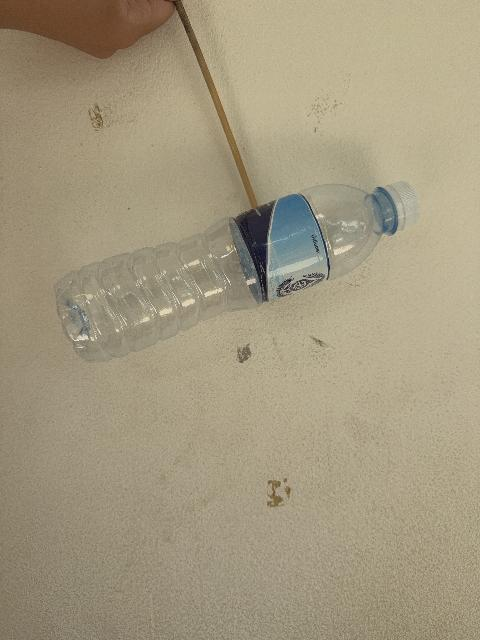bottle: (55, 183, 419, 361)
